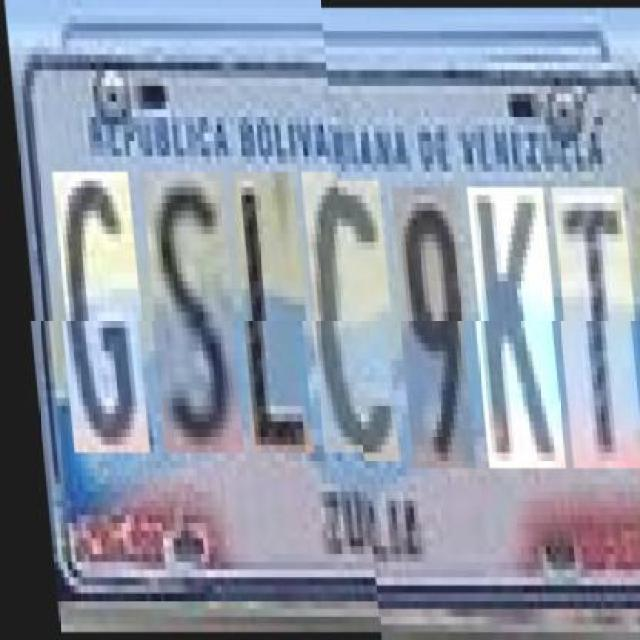9: (388, 187, 470, 468)
c: (298, 179, 394, 461)
g: (49, 179, 146, 461)
k: (463, 187, 560, 468)
l: (227, 179, 310, 461)
s: (138, 179, 239, 461)
t: (547, 187, 639, 468)
